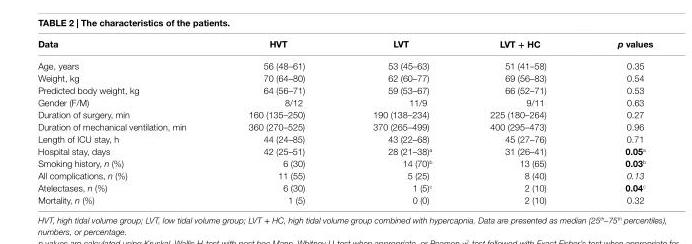table: (37, 37, 652, 204)
table column: (37, 37, 216, 204), (216, 37, 338, 204), (338, 37, 460, 204), (460, 37, 581, 204), (581, 37, 652, 204)
table column header: (37, 37, 652, 55)
table row: (37, 37, 652, 55), (37, 55, 652, 71), (37, 107, 652, 120), (37, 180, 652, 193), (37, 71, 652, 83), (37, 83, 652, 95), (37, 95, 652, 107), (37, 120, 652, 132), (37, 132, 652, 144), (37, 144, 652, 156), (37, 156, 652, 168), (37, 168, 652, 180), (37, 193, 652, 204)
